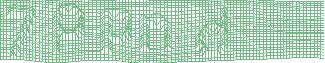7: (2, 4, 38, 58)
P: (97, 7, 132, 57)
d: (194, 5, 230, 58)
n: (137, 12, 175, 54)
p: (49, 2, 86, 55)
